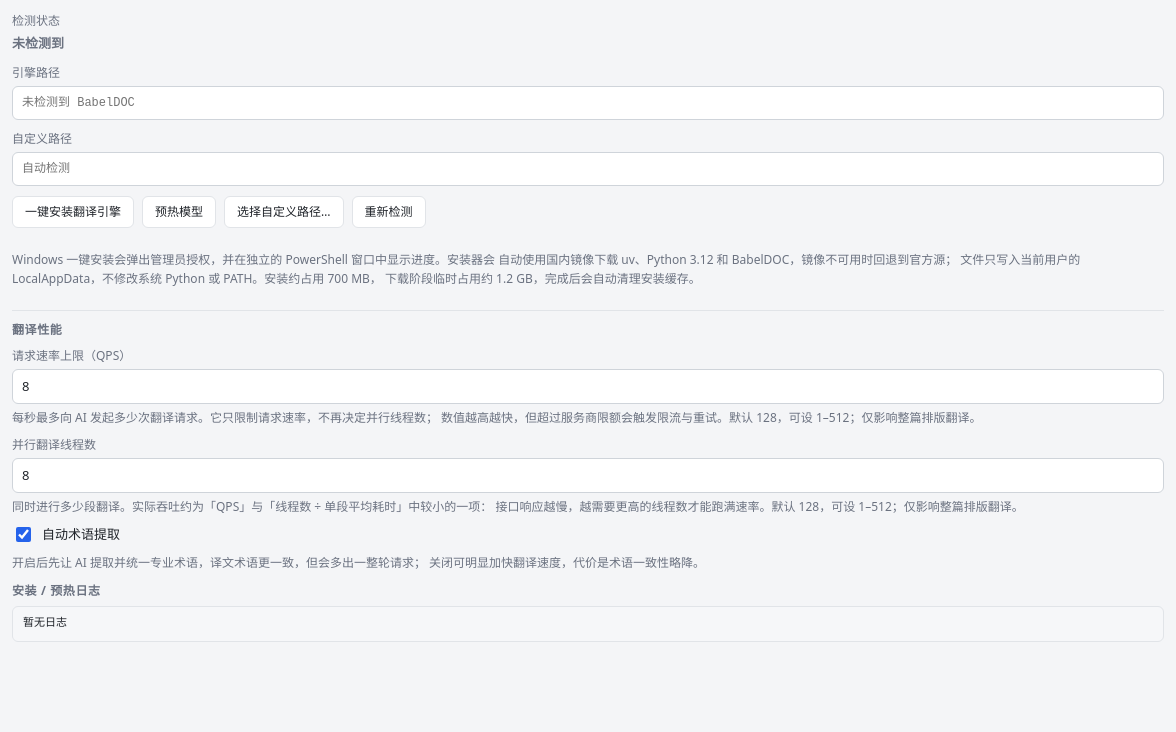
EngineSettingsTab performance settings › 夹紧并保存并行线程数上限
Replace the text in the number field labelled "并行翻译线程数" with "999" at (588, 475), box [12,458,1164,493]
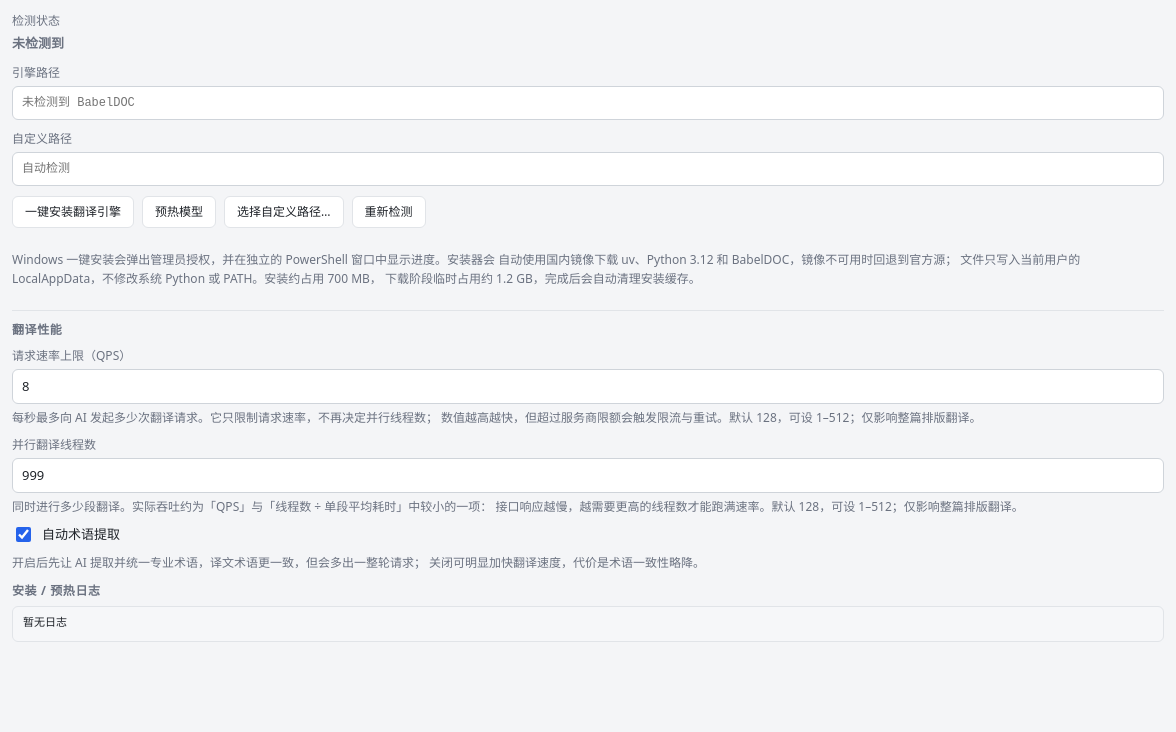
Leave the number field labelled "并行翻译线程数", box [12,458,1164,493]
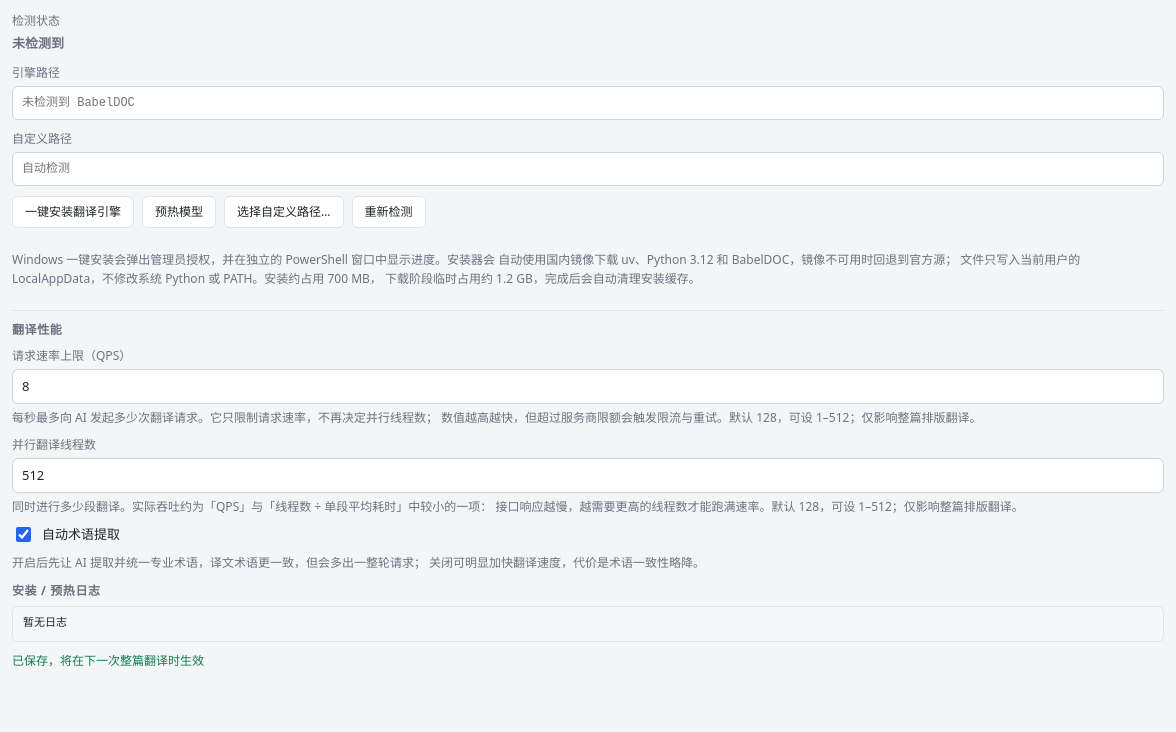
expect the number field labelled "并行翻译线程数" holds "512": met, box [12,458,1164,493]
